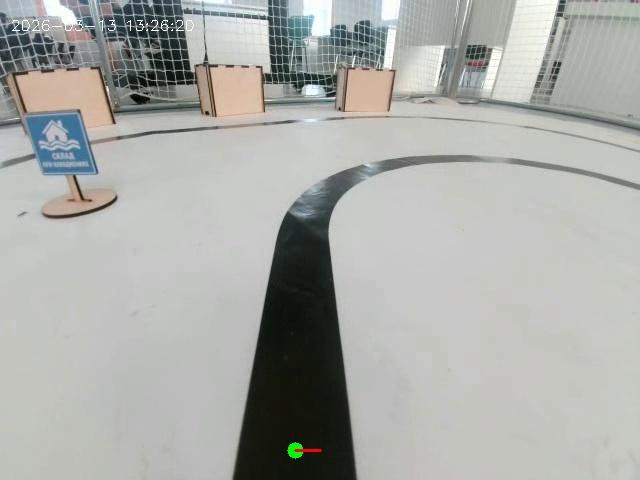flood: (0, 74, 126, 262)
